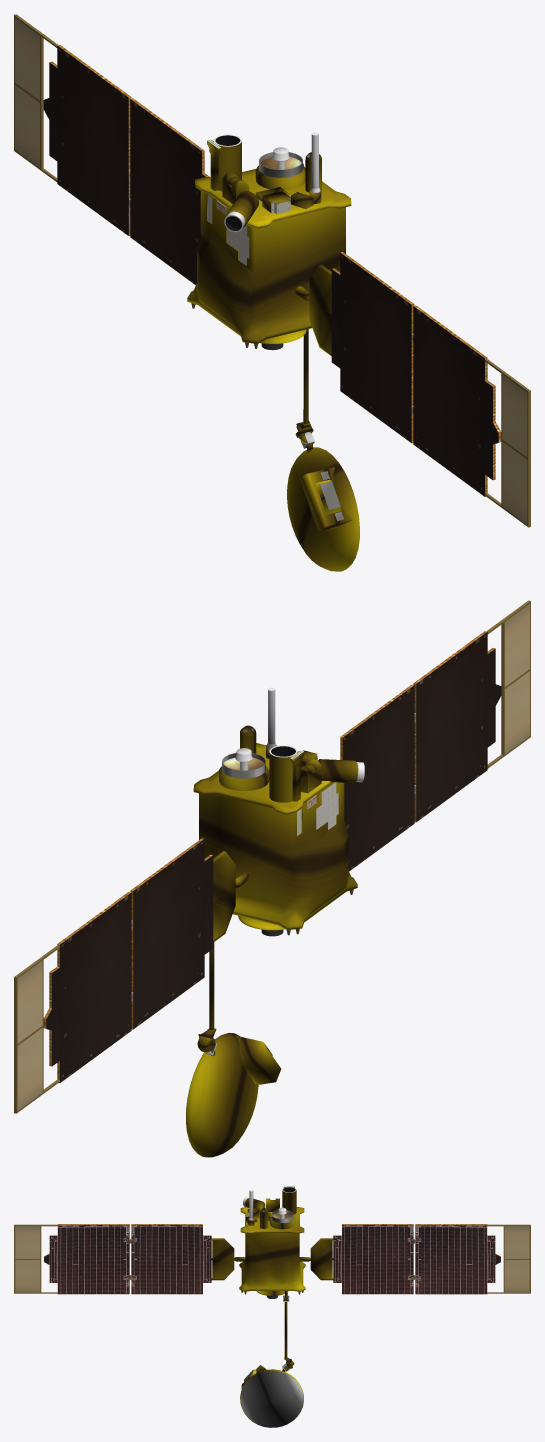
Rendered from mars-global-surveyor-4.glb.
3 views of the same model, one above another, from view 1: azimuth 30°, elevation 25°; view 2: azimuth 150°, elevation 25°; view 3: azimuth 270°, elevation 25° (orthographic). The views are drawn at different scales.
Visible parts, largest first — view 1: tex, foil_gold, AO; view 2: tex, foil_gold, AO; view 3: shiny_panel, foil_gold, tex, foil_silver.
Part boxes in pixels (<box>): tex: <box>14,14,530,527</box>; foil_gold: <box>187,140,359,571</box>; AO: <box>213,132,320,448</box>; tex: <box>14,600,530,1113</box>; foil_gold: <box>186,725,358,1157</box>; AO: <box>205,687,364,1055</box>; shiny_panel: <box>44,1224,500,1294</box>; foil_gold: <box>211,1187,333,1427</box>; tex: <box>14,1186,530,1387</box>; foil_silver: <box>240,1370,303,1427</box>.
Bounding box in the file's own units: 1.75 × 5.15 × 10.52.
Materials: 7 (6 with a texture image).
